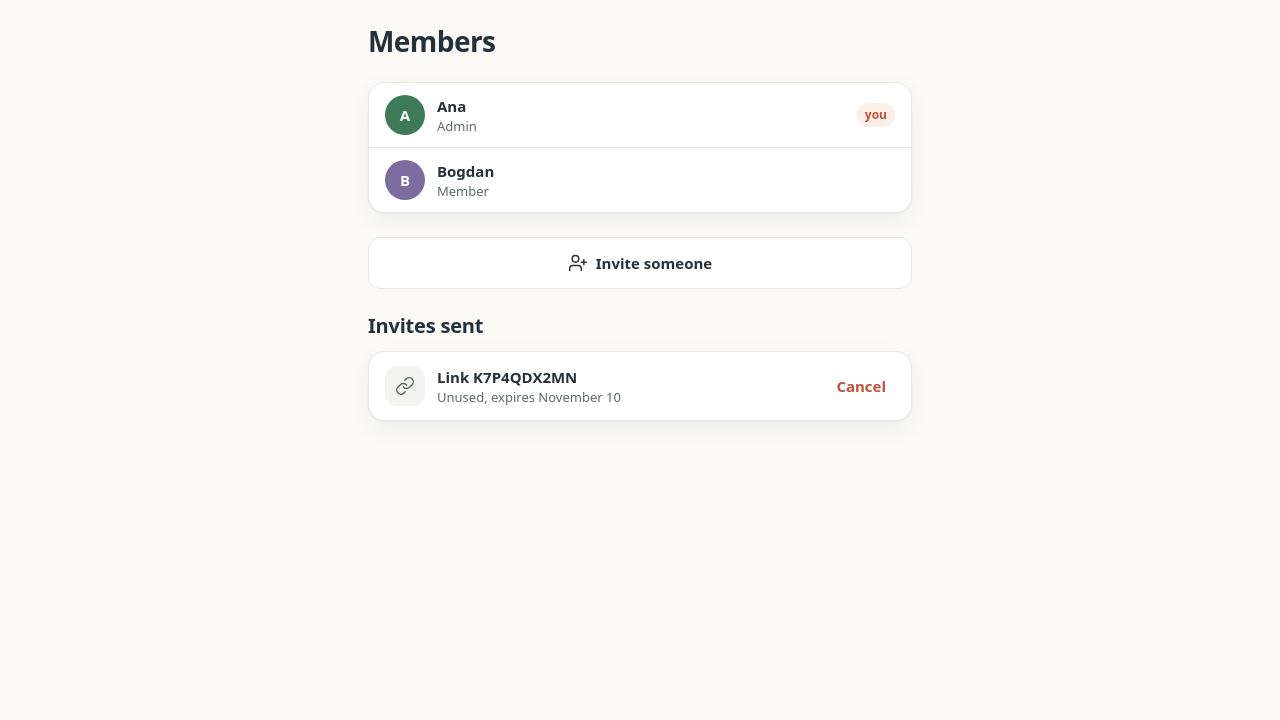
Test: crew screen › an admin cancels a pending invite after confirming
The width and height of the screenshot is (1280, 720).
Expected: the text "Link K7P4QDX2MN" is shown, x1=437 y1=367 x2=577 y2=387
Click the button "Cancel": (861, 386) x1=827 y1=364 x2=895 y2=408
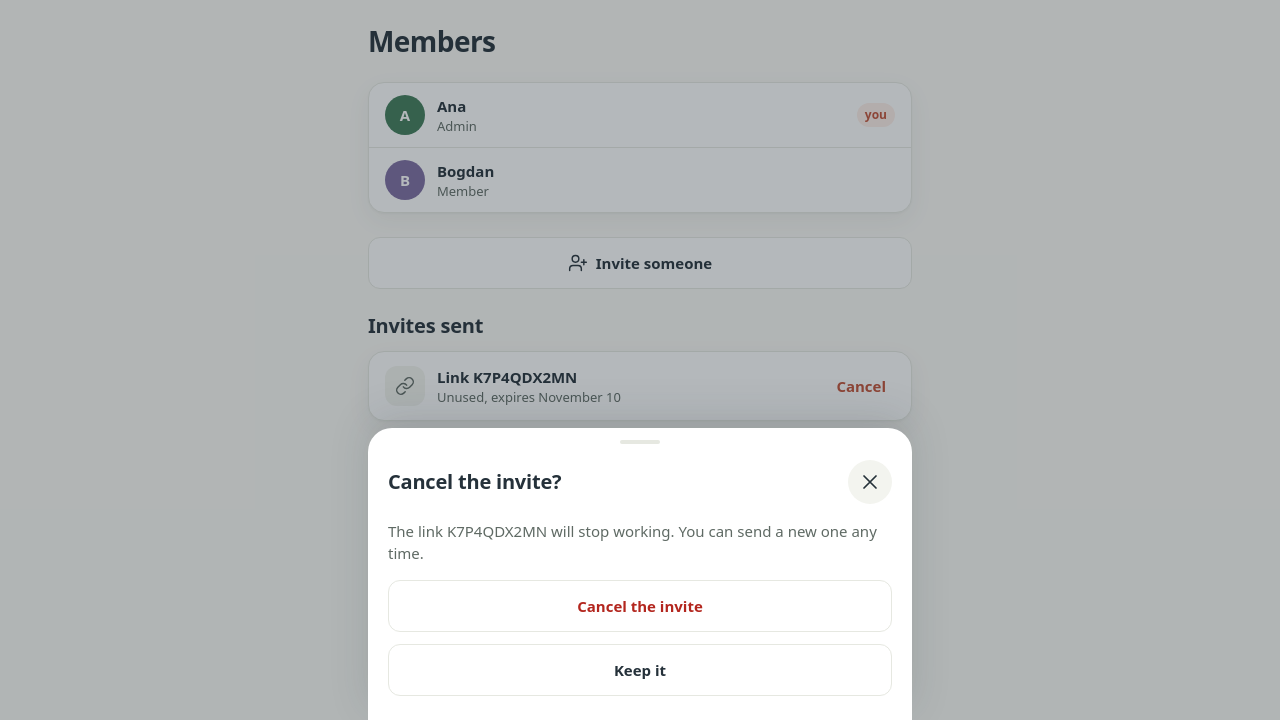
Click the button "Cancel the invite": (640, 606) x1=388 y1=580 x2=892 y2=632
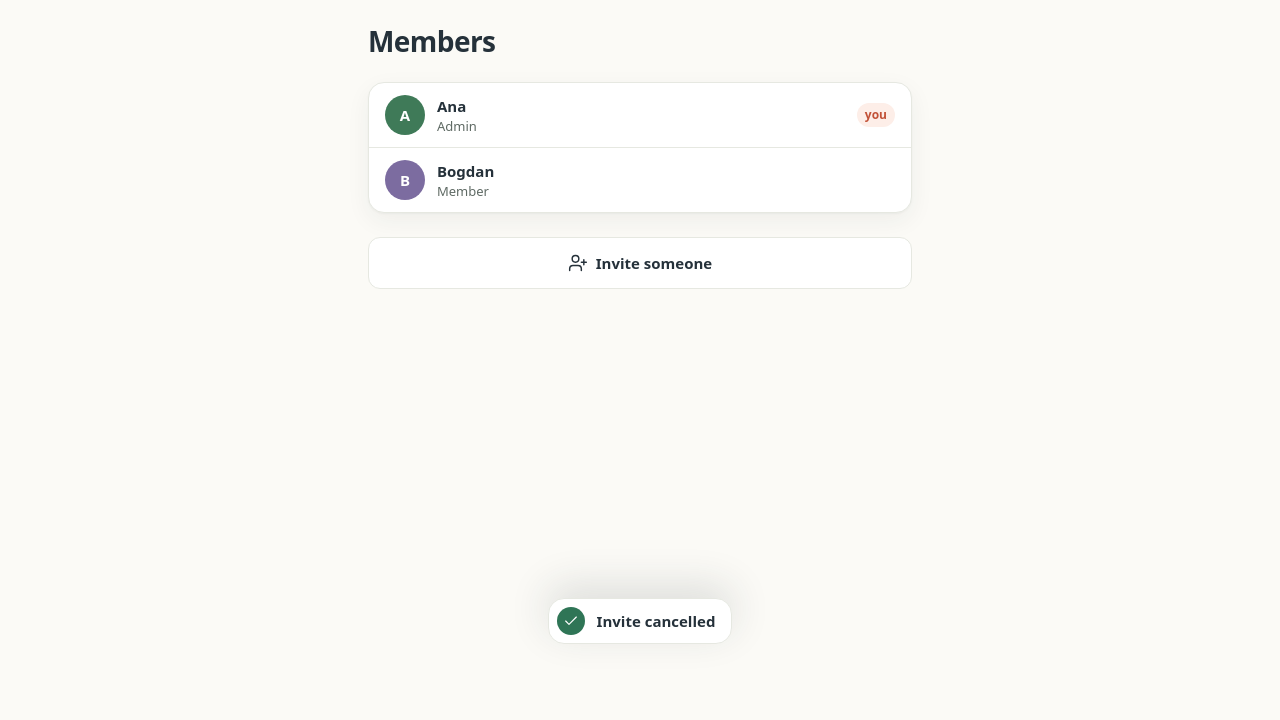
Expected: the text "Invite cancelled" is shown, x1=548 y1=598 x2=732 y2=644
